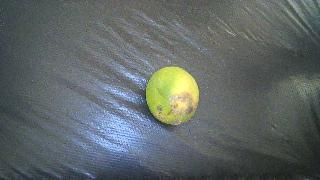DESECHO: (146, 67, 199, 125)
